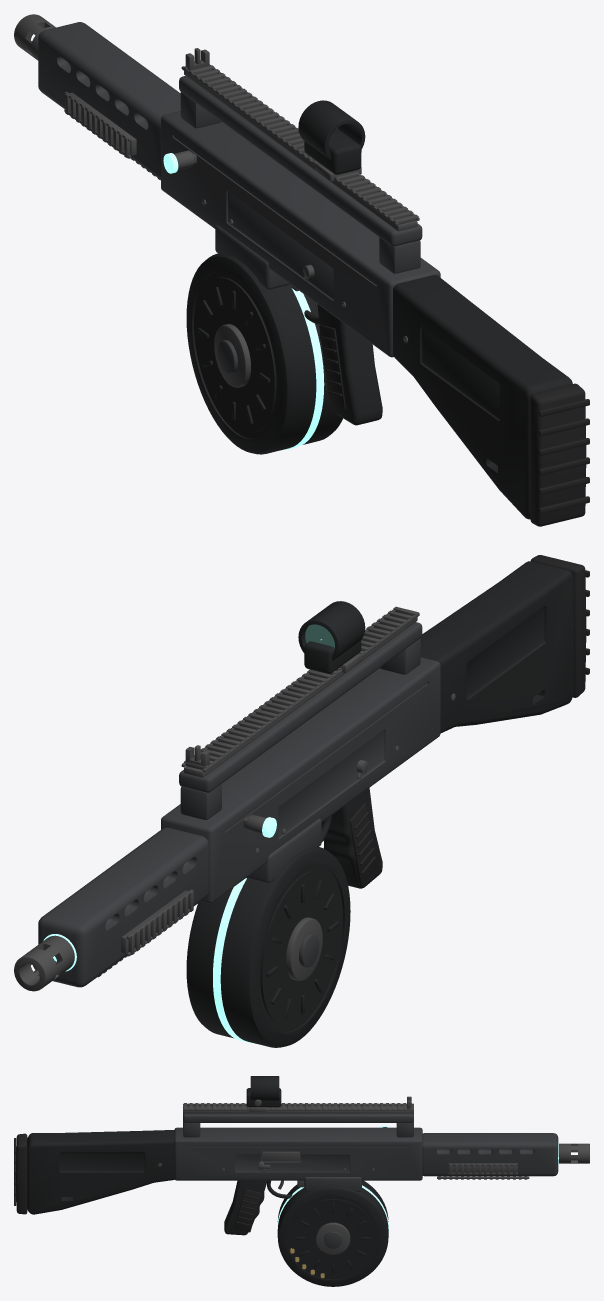
The picture shows the model from 3 angles, top to bottom: view 1: azimuth 30°, elevation 25°; view 2: azimuth 150°, elevation 25°; view 3: azimuth 270°, elevation 25°; orthographic projection. The views are drawn at different scales.
Parts seen in each view (by area): view 1: Body, Drum; view 2: Body, Drum; view 3: Body, Drum.
Part boxes in pixels (left/top/right/bottom): Body: left=14, top=14, right=589, bottom=526; Drum: left=186, top=253, right=342, bottom=454; Body: left=14, top=555, right=589, bottom=991; Drum: left=186, top=847, right=350, bottom=1047; Body: left=14, top=1076, right=589, bottom=1235; Drum: left=277, top=1180, right=388, bottom=1286.
Bounding box in the file's own units: 0.102 × 0.3878 × 0.998.
